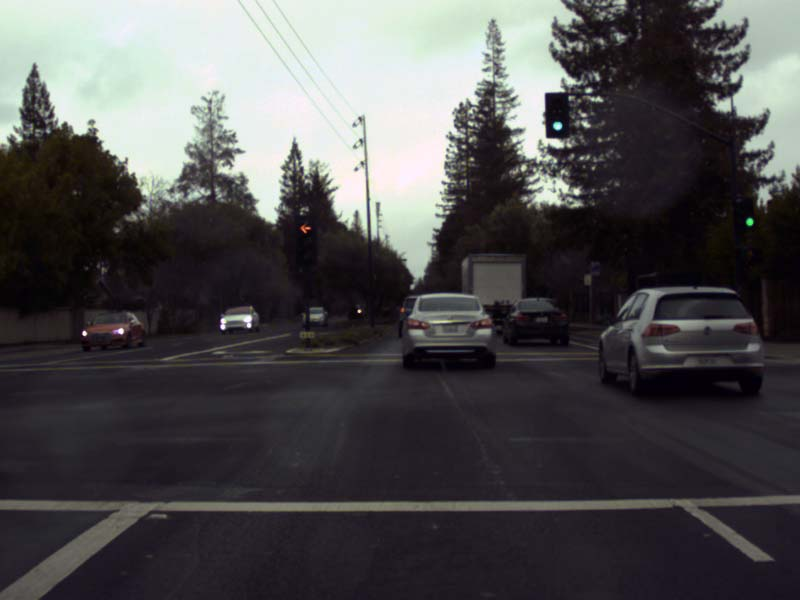Green: (545, 92, 568, 136), (743, 198, 754, 228)
Red: (295, 214, 317, 264)
